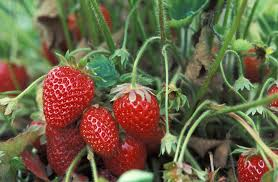Fresa: (41, 60, 97, 132), (110, 81, 166, 146), (78, 103, 122, 161)
